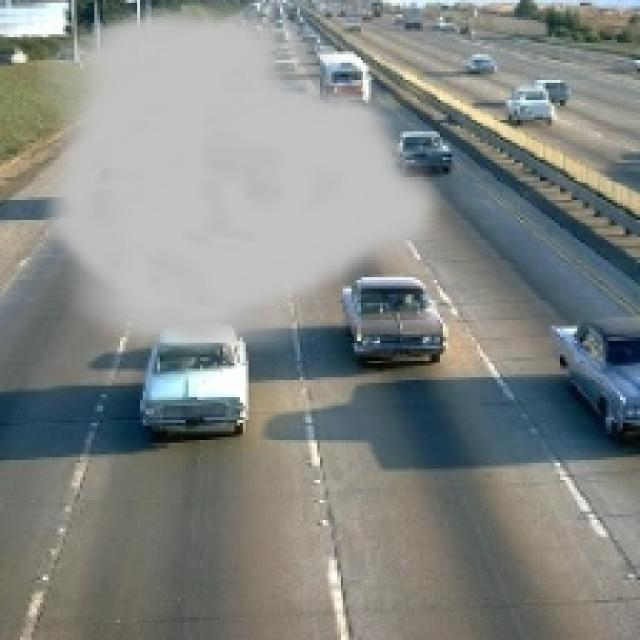smoke: (37, 0, 449, 366)
